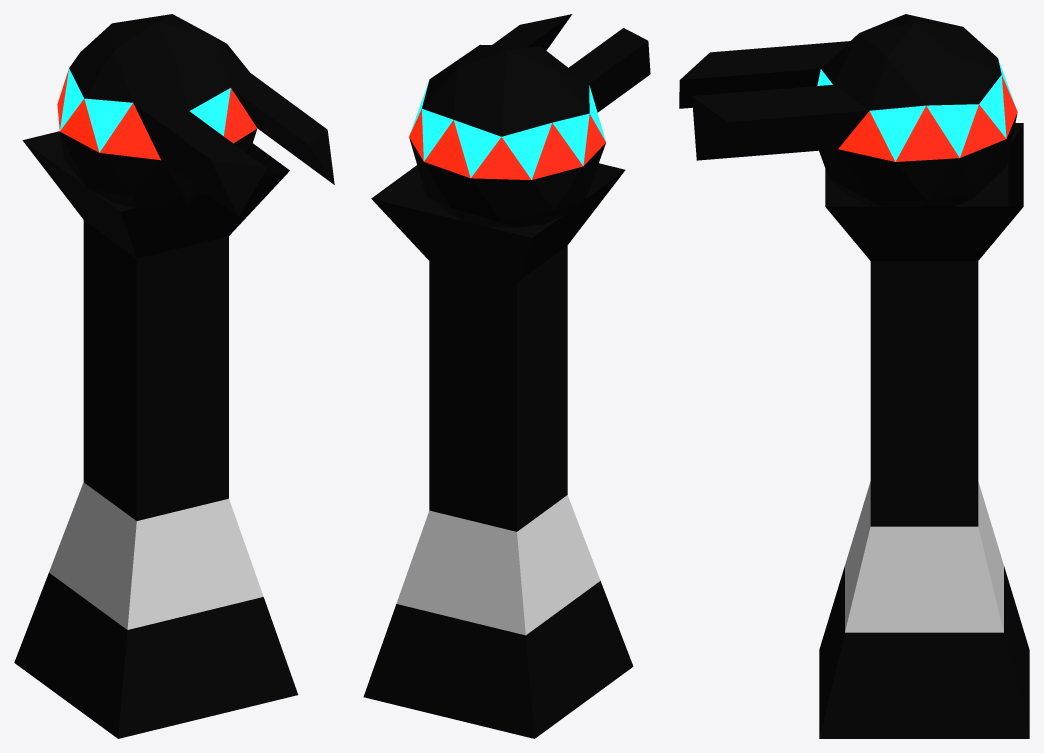
The model's file is TURRET.fbx.
The picture shows the model from 3 angles, left to right: view 1: azimuth 30°, elevation 25°; view 2: azimuth 150°, elevation 25°; view 3: azimuth 270°, elevation 25°; orthographic projection. The views are drawn at different scales.
Parts seen in each view (by area): view 1: Cube, Icosphere; view 2: Cube, Icosphere; view 3: Cube, Icosphere.
Part boxes in pixels (x1,y1,x2,y2): Cube: (14, 131, 298, 738); Icosphere: (57, 14, 334, 216); Cube: (363, 163, 633, 738); Icosphere: (409, 14, 650, 227); Cube: (819, 123, 1029, 738); Icosphere: (679, 14, 1017, 206).
Size of the model in its own units: 203 by 702 by 333.
